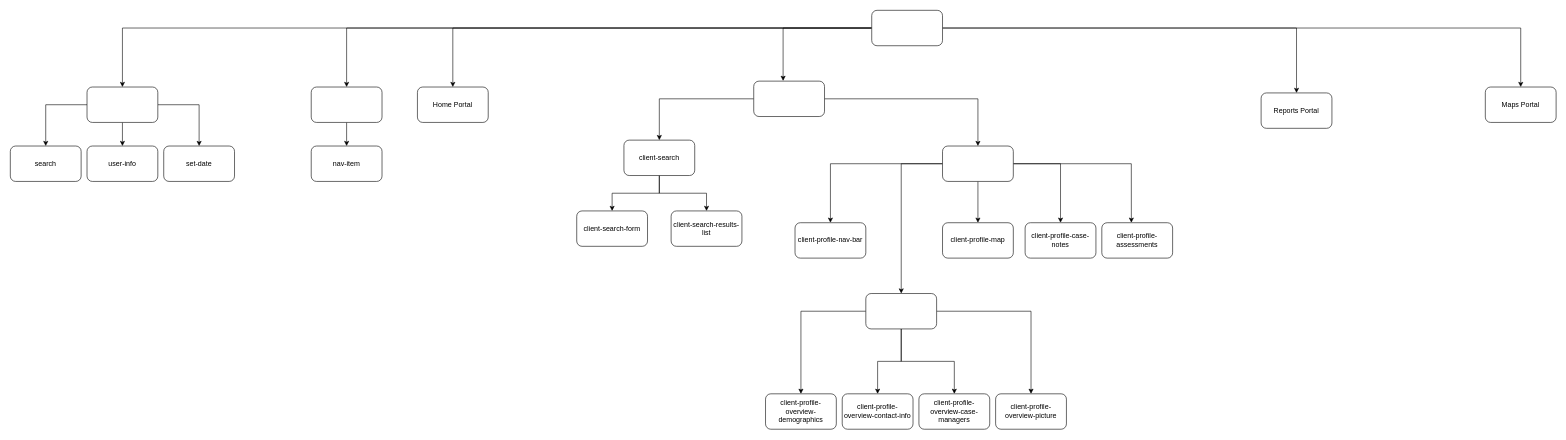
Some shapes in this 1566 by 440 pixel diagram are drawn without their labels. The centre of each missing label's shape, as x and y in pixels:
"App Component" goes at point (907, 28).
"client-portal" goes at point (789, 99).
"client-profile" goes at point (977, 163).
"client-profile-overview" goes at point (901, 311).
"header" goes at point (122, 104).
"navigaton" goes at point (346, 104).
